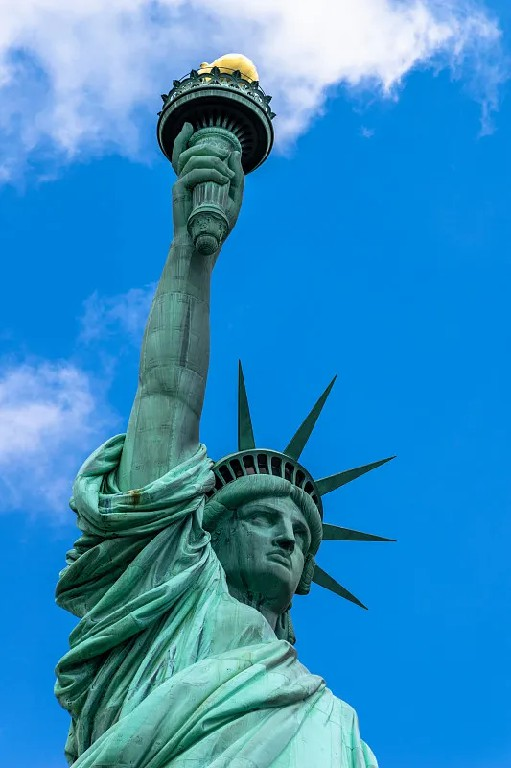SL: (54, 52, 398, 768)
